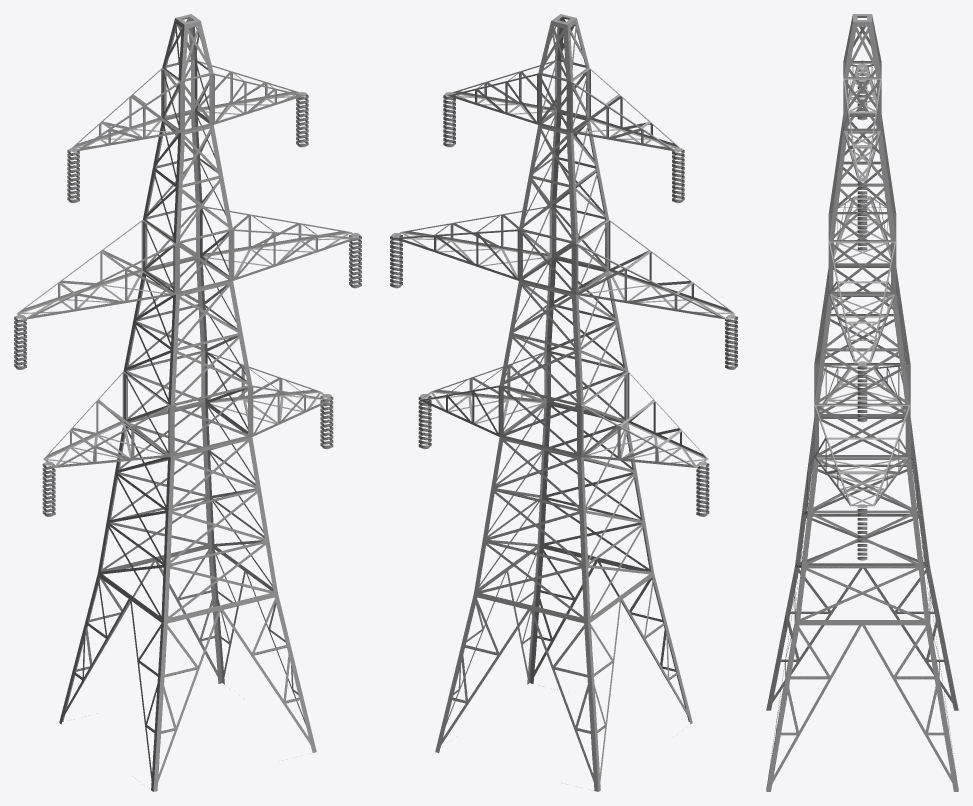
The model's file is pylon.glb.
3 views of the same model, side by side, from view 1: azimuth 30°, elevation 25°; view 2: azimuth 150°, elevation 25°; view 3: azimuth 270°, elevation 25° (orthographic). The views are drawn at different scales.
Visible parts, largest first — view 1: Pylon_L6; view 2: Pylon_L6; view 3: Pylon_L6.
Part boxes in pixels (x1,y1,x2,y2): Pylon_L6: (14, 14, 361, 791); Pylon_L6: (390, 14, 737, 791); Pylon_L6: (766, 14, 958, 791).
Size of the model in its own units: 21 by 42 by 10.
1 material, 1 textured.
